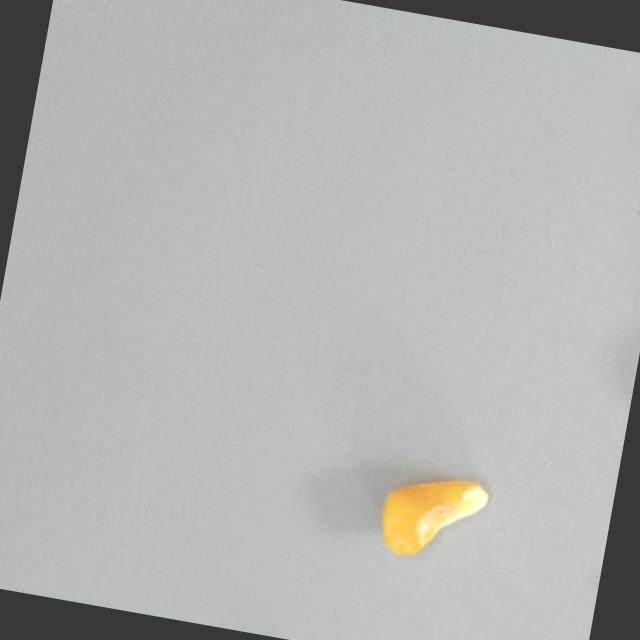estandar: (371, 465, 490, 569)
